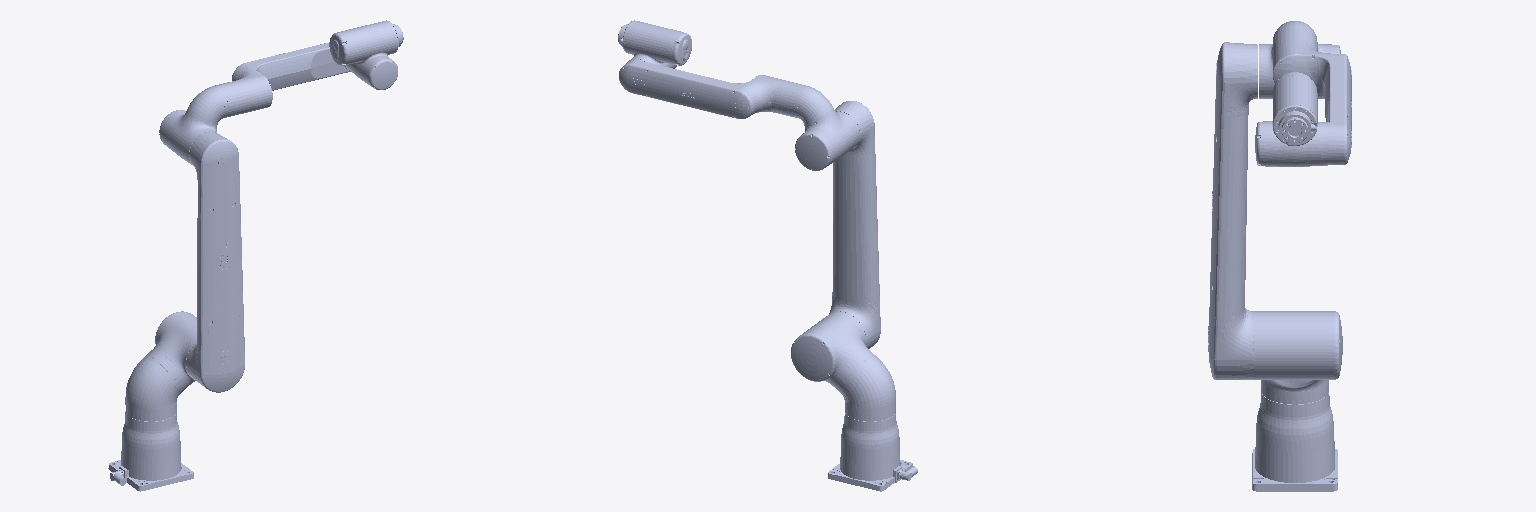
URDF robot description (robot):
<?xml version="1.0" ?>
<!-- =================================================================================== -->
<!-- |    This document was autogenerated by xacro from [local-path]/projects/merlin_ws/src/ABB_omnicore_ros_driver/omnicore_description/xacro/robot.urdf.xacro | -->
<!-- |    EDITING THIS FILE BY HAND IS NOT RECOMMENDED                                 | -->
<!-- =================================================================================== -->
<robot name="robot">
    <!-- Parameters -->
    <arg default="gofa_5" name="name" />
    <!--<xacro:arg name="yumi_setup" default="default" /> UNUSED -->
    <!-- World fixed joint -->
    <link name="world" />
    <!-- Robot -->
    <!-- GoFa color -->
    <material name="gofa_color">
        <color rgba="0.792156862745098 0.819607843137255 0.933333333333333 1" />
    </material>
    <!-- Base -->
    <joint name="world_to_gofa_base_link" type="fixed">
        <origin rpy="0 0 0" xyz="0 0 0" />
        <parent link="world" />
        <child link="gofa_base_link" />
    </joint>
    <link name="gofa_base_link">
        <inertial>
            <origin rpy="0 0 0" xyz="-0.0012013793465437 -0.000175191786981708 0.0862146007385352" />
            <mass value="3.50083457958494" />
            <inertia ixx="0.0153015257917955" ixy="-6.40155032892694E-05" ixz="-0.000276708687772683" iyy="0.0159333503953857" iyz="-3.98029144780725E-05" izz="0.0112162302268266" />
        </inertial>
        <visual>
            <origin rpy="0 0 0" xyz="0 0 0" />
            <geometry>
                <mesh filename="package://omnicore_description/meshes/Gofa10/visual/gofa_base_link.stl" />
            </geometry>
            <material name="gofa_color" />
        </visual>
        <collision>
            <origin rpy="0 0 0" xyz="0 0 0" />
            <geometry>
                <mesh filename="package://omnicore_description/meshes/Gofa10/collision/gofa_base_link.stl" />
            </geometry>
        </collision>
    </link>
    <!-- Link 1 -->
    <link name="L1">
        <inertial>
            <origin rpy="0 0 0" xyz="2.08682453325091E-06 0.0103608399967513 0.0705307203199506" />
            <mass value="2.76743491139404" />
            <inertia ixx="0.0115158625894577" ixy="6.37197693598838E-08" ixz="5.98954393680154E-09" iyy="0.006494848329231" iyz="-0.000196668400316843" izz="0.0109446835358581" />
        </inertial>
        <visual>
            <origin rpy="0 0 0" xyz="0 0 0" />
            <geometry>
                <mesh filename="package://omnicore_description/meshes/Gofa10/visual/L1.stl" />
            </geometry>
            <material name="gofa_color" />
        </visual>
        <collision>
            <origin rpy="0 0 0" xyz="0 0 0" />
            <geometry>
                <mesh filename="package://omnicore_description/meshes/Gofa10/collision/L1.stl" />
            </geometry>
        </collision>
    </link>
    <joint name="J1" type="revolute">
        <origin rpy="0 0 0" xyz="0 0.0 0.4" />
        <axis xyz="0 0 1" />
        <parent link="gofa_base_link" />
        <child link="L1" />
        <limit effort="300" lower="-4.71238898038469" upper="4.71238898038469" velocity="2.0943951023931953" />
        <dynamics damping="0.5" />
    </joint>
    <!-- Link2 -->
    <link name="L2">
        <inertial>
            <origin rpy="0 0 0" xyz="1.34018352211628E-06 -0.0500118376116071 0.222001399322246" />
            <mass value="4.28904168670464" />
            <inertia ixx="0.130524729873898" ixy="1.31811857134115E-07" ixz="1.99022457670482E-06" iyy="0.133278449324229" iyz="-4.48622200366709E-07" izz="0.00669457974697178" />
        </inertial>
        <visual>
            <origin rpy="0 0 0" xyz="0 0 0" />
            <geometry>
                <mesh filename="package://omnicore_description/meshes/Gofa10/visual/L2.stl" />
            </geometry>
            <material name="gofa_color" />
        </visual>
        <collision>
            <origin rpy="0 0 0" xyz="0 0 0" />
            <geometry>
                <mesh filename="package://omnicore_description/meshes/Gofa10/collision/L2.stl" />
            </geometry>
        </collision>
    </link>
    <joint name="J2" type="revolute">
        <origin rpy="0 0 0" xyz="0.15 0 0" />
        <axis xyz="0 1 0" />
        <parent link="L1" />
        <child link="L2" />
        <limit effort="300" lower="-3.141592653589793" upper="3.141592653589793" velocity="2.0943951023931953" />
        <dynamics damping="0.5" />
    </joint>
    <!-- Link3 -->
    <link name="L3">
        <inertial>
            <origin rpy="0 0 0" xyz="0.0128129281453599 0.0944171780907046 0.0247427540642403" />
            <mass value="3.38333107992875" />
            <inertia ixx="0.0175626138728642" ixy="0.000364866179108744" ixz="-0.00318670290285352" iyy="0.0140230068919562" iyz="0.000704668055158407" izz="0.013275205067567" />
        </inertial>
        <visual>
            <origin rpy="0 0 0" xyz="0 0 0" />
            <geometry>
                <mesh filename="package://omnicore_description/meshes/Gofa10/visual/L3.stl" />
            </geometry>
            <material name="gofa_color" />
        </visual>
        <collision>
            <origin rpy="0 0 0" xyz="0 0 0" />
            <geometry>
                <mesh filename="package://omnicore_description/meshes/Gofa10/collision/L3.stl" />
            </geometry>
        </collision>
    </link>
    <joint name="J3" type="revolute">
        <origin rpy="0 0 0" xyz="0 0 0.707" />
        <axis xyz="0 1 0" />
        <parent link="L2" />
        <child link="L3" />
        <limit effort="300" lower="-3.9269908169872414" upper="1.4835298641951802" velocity="2.181661564992912" />
        <dynamics damping="0.5" />
    </joint>
    <!-- Link4 -->
    <link name="L4">
        <inertial>
            <origin rpy="0 0 0" xyz="0.160558561602322 0.041976811408979 -2.36623354021859E-07" />
            <mass value="2.77857535641324" />
            <inertia ixx="0.00881683095901354" ixy="-0.010746260580237" ixz="1.2899930119841E-07" iyy="0.0340754175571832" iyz="3.96362791626429E-08" izz="0.0389358932156922" />
        </inertial>
        <visual>
            <origin rpy="0 0 0" xyz="0 0 0" />
            <geometry>
                <mesh filename="package://omnicore_description/meshes/Gofa10/visual/L4.stl" />
            </geometry>
            <material name="gofa_color" />
        </visual>
        <collision>
            <origin rpy="0 0 0" xyz="0 0 0" />
            <geometry>
                <mesh filename="package://omnicore_description/meshes/Gofa10/collision/L4.stl" />
            </geometry>
        </collision>
    </link>
    <joint name="J4" type="revolute">
        <origin rpy="0 0 0" xyz="0 0 0.110" />
        <axis xyz="1 0 0" />
        <parent link="L3" />
        <child link="L4" />
        <limit effort="300" lower="-3.141592653589793" upper="3.141592653589793" velocity="3.490658503988659" />
        <dynamics damping="0.5" />
    </joint>
    <!-- Link5 -->
    <link name="L5">
        <inertial>
            <origin rpy="0 0 0" xyz="-0.0147152361879962 -0.0785646469392633 0.0427558021601431" />
            <mass value="3.01105814739001" />
            <inertia ixx="0.0114597336686444" ixy="0.000180094704361231" ixz="0.00165207280226761" iyy="0.013561904467501" iyz="-0.000525272443978826" izz="0.0108480119549914" />
        </inertial>
        <visual>
            <origin rpy="0 0 0" xyz="0 0 0" />
            <geometry>
                <mesh filename="package://omnicore_description/meshes/Gofa10/visual/L5.stl" />
            </geometry>
            <material name="gofa_color" />
        </visual>
        <collision>
            <origin rpy="0 0 0" xyz="0 0 0" />
            <geometry>
                <mesh filename="package://omnicore_description/meshes/Gofa10/collision/L5.stl" />
            </geometry>
        </collision>
    </link>
    <joint name="J5" type="revolute">
        <origin rpy="0 0 0" xyz="0.637 0 0" />
        <axis xyz="0 1 0" />
        <parent link="L4" />
        <child link="L5" />
        <limit effort="300" lower="-3.141592653589793" upper="3.141592653589793" velocity="3.490658503988659" />
        <dynamics damping="0.5" />
    </joint>
    <!-- Link6 -->
    <link name="L6">
        <inertial>
            <origin rpy="0 0 0" xyz="0.0137506852604966 0.000239804131398652 -0.000341962798940165" />
            <mass value="0.146500988015653" />
            <inertia ixx="0.000128977630055306" ixy="-8.7622752508613E-08" ixz="1.18851551870012E-07" iyy="7.61118177829087E-05" iyz="-6.49821554399679E-07" izz="7.65022909768016E-05" />
        </inertial>
        <visual>
            <origin rpy="0 0 0" xyz="0 0 0" />
            <geometry>
                <mesh filename="package://omnicore_description/meshes/Gofa10/visual/L6.stl" />
            </geometry>
            <material name="gofa_color" />
        </visual>
        <collision>
            <origin rpy="0 0 0" xyz="0 0 0" />
            <geometry>
                <mesh filename="package://omnicore_description/meshes/Gofa10/collision/L6.stl" />
            </geometry>
        </collision>
    </link>
    <joint name="J6" type="revolute">
        <origin rpy="0 0 0" xyz="0.101 0 0.080" />
        <axis xyz="1 0 0" />
        <parent link="L5" />
        <child link="L6" />
        <limit effort="300" lower="-4.71238898038469" upper="4.71238898038469" velocity="3.490658503988659" />
        <dynamics damping="0.5" />
    </joint>
    <!-- Flange -->
    <link name="flange" />
    <joint name="L6_to_flange" type="fixed">
        <origin rpy="0 1.5707963267948966 0" xyz="0 0 0" />
        <parent link="L6" />
        <child link="flange" />
    </joint>
    <transmission name="gofa_tran_1">
        <type>transmission_interface/SimpleTransmission</type>
        <joint name="J1">
            <hardwareInterface>VelocityJointInterface</hardwareInterface>
        </joint>
        <actuator name="gofa_motor_1">
            <hardwareInterface>VelocityJointInterface</hardwareInterface>
            <mechanicalReduction>1</mechanicalReduction>
        </actuator>
    </transmission>
    <transmission name="gofa_tran_2">
        <type>transmission_interface/SimpleTransmission</type>
        <joint name="J2">
            <hardwareInterface>VelocityJointInterface</hardwareInterface>
        </joint>
        <actuator name="gofa_motor_2">
            <hardwareInterface>VelocityJointInterface</hardwareInterface>
            <mechanicalReduction>1</mechanicalReduction>
        </actuator>
    </transmission>
    <transmission name="gofa_tran_3">
        <type>transmission_interface/SimpleTransmission</type>
        <joint name="J3">
            <hardwareInterface>VelocityJointInterface</hardwareInterface>
        </joint>
        <actuator name="gofa_motor_3">
            <hardwareInterface>VelocityJointInterface</hardwareInterface>
            <mechanicalReduction>1</mechanicalReduction>
        </actuator>
    </transmission>
    <transmission name="gofa_tran_4">
        <type>transmission_interface/SimpleTransmission</type>
        <joint name="J4">
            <hardwareInterface>VelocityJointInterface</hardwareInterface>
        </joint>
        <actuator name="gofa_motor_4">
            <hardwareInterface>VelocityJointInterface</hardwareInterface>
            <mechanicalReduction>1</mechanicalReduction>
        </actuator>
    </transmission>
    <transmission name="gofa_tran_5">
        <type>transmission_interface/SimpleTransmission</type>
        <joint name="J5">
            <hardwareInterface>VelocityJointInterface</hardwareInterface>
        </joint>
        <actuator name="gofa_motor_5">
            <hardwareInterface>VelocityJointInterface</hardwareInterface>
            <mechanicalReduction>1</mechanicalReduction>
        </actuator>
    </transmission>
    <transmission name="gofa_tran_6">
        <type>transmission_interface/SimpleTransmission</type>
        <joint name="J6">
            <hardwareInterface>VelocityJointInterface</hardwareInterface>
        </joint>
        <actuator name="gofa_motor_6">
            <hardwareInterface>VelocityJointInterface</hardwareInterface>
            <mechanicalReduction>1</mechanicalReduction>
        </actuator>
    </transmission>
    <gazebo>
        <plugin name="gazebo_ros_control" filename="libgazebo_ros_control.so">
            <robotNamespace>/</robotNamespace>
        </plugin>
    </gazebo>
</robot>

--- Render facts (derived) ---
3 views of the same robot in one strip: view 1: azimuth 30°, elevation 25°; view 2: azimuth 150°, elevation 25°; view 3: azimuth 270°, elevation 25° (orthographic).
Model robot with 9 links and 8 joints (6 revolute, 2 fixed), rooted at world, posed every joint at zero.
Links seen in each view (by area): view 1: L2, L1, L4, gofa_base_link, L5, L3; view 2: L2, L1, L4, gofa_base_link, L3, L5; view 3: L2, L1, gofa_base_link, L4, L5, L6, L3.
Boxes of the visible links, x1=… form: L2: x1=186, y1=132, x2=244, y2=392; L1: x1=125, y1=311, x2=196, y2=421; L4: x1=215, y1=43, x2=350, y2=117; gofa_base_link: x1=108, y1=411, x2=193, y2=491; L5: x1=329, y1=21, x2=397, y2=89; L3: x1=159, y1=85, x2=227, y2=164; L2: x1=829, y1=101, x2=880, y2=348; L1: x1=791, y1=311, x2=895, y2=421; L4: x1=619, y1=59, x2=803, y2=118; gofa_base_link: x1=828, y1=413, x2=917, y2=491; L3: x1=793, y1=85, x2=859, y2=170; L5: x1=624, y1=21, x2=691, y2=68; L2: x1=1208, y1=42, x2=1257, y2=379; L1: x1=1254, y1=311, x2=1342, y2=404; gofa_base_link: x1=1252, y1=393, x2=1337, y2=491; L4: x1=1273, y1=26, x2=1351, y2=165; L5: x1=1255, y1=72, x2=1326, y2=166; L6: x1=1273, y1=105, x2=1317, y2=145; L3: x1=1259, y1=21, x2=1340, y2=98.
Bounding box of the posed robot: 1.03 × 0.3366 × 1.35 m (x, y, z).
7 mesh visuals loaded from 7 distinct referenced files (7 binary STL).